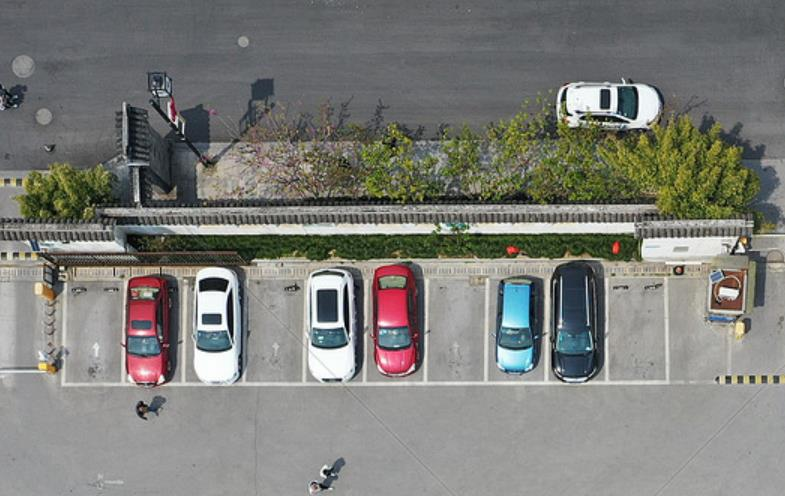car: (187, 266, 250, 385), (301, 267, 362, 387), (548, 263, 600, 387), (118, 273, 173, 390), (549, 76, 666, 129), (370, 263, 419, 379), (493, 273, 541, 377)
